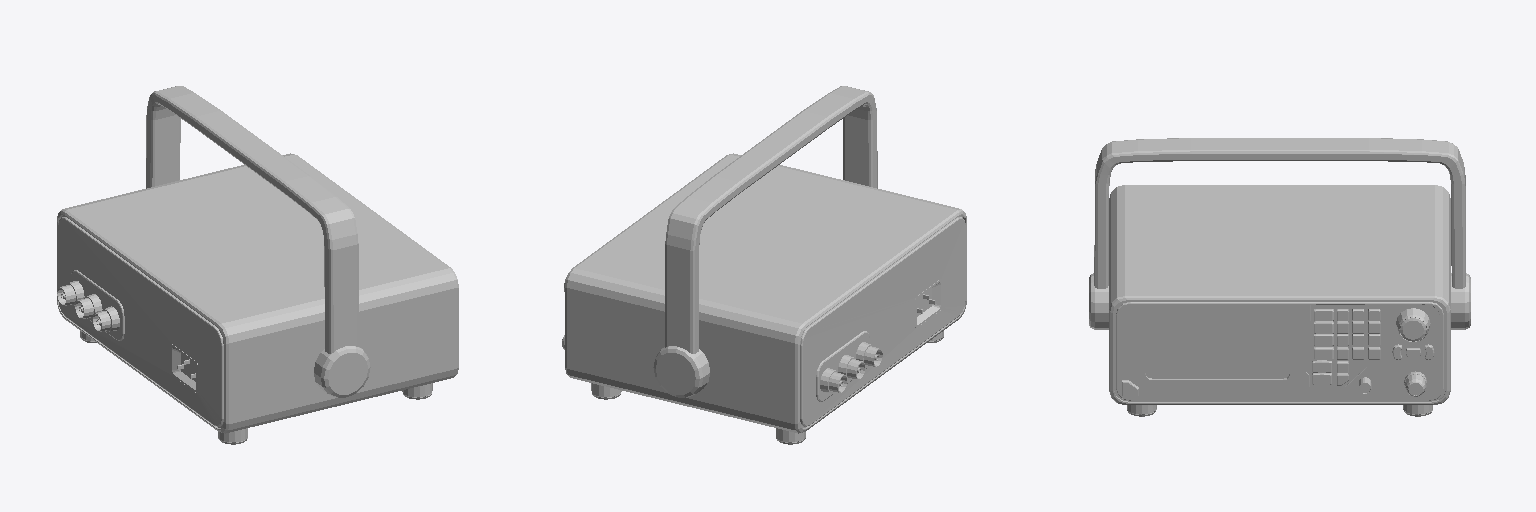
File: gen.obj
3 renders of one model, left to right at view 1: azimuth 30°, elevation 25°; view 2: azimuth 150°, elevation 25°; view 3: azimuth 270°, elevation 25°, orthographic.
Parts seen in each view (by area): view 1: RF-Signal_Generator.001_Cube.040; view 2: RF-Signal_Generator.001_Cube.040; view 3: RF-Signal_Generator.001_Cube.040.
Boxes of the visible parts, box(x1,y1,x2,y2) form: RF-Signal_Generator.001_Cube.040: box(57, 86, 458, 444); RF-Signal_Generator.001_Cube.040: box(562, 86, 966, 444); RF-Signal_Generator.001_Cube.040: box(1089, 138, 1470, 416).
Bounding box in the file's own units: 3.45 × 2.7 × 4.24.